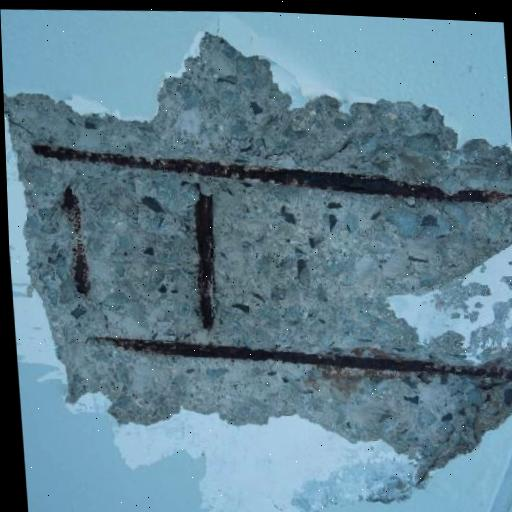exposed_rebar: (32, 144, 510, 203), (96, 337, 485, 373), (190, 184, 216, 331), (61, 185, 90, 294)
spalling: (3, 34, 512, 485)
